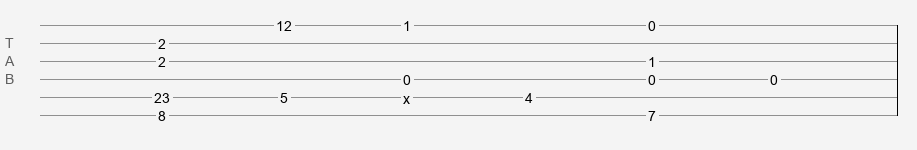0: (403, 72, 411, 82), (648, 72, 656, 82), (648, 18, 656, 28), (770, 72, 778, 82)
1: (403, 18, 411, 28), (648, 54, 656, 64)
12: (276, 18, 292, 28)
2: (158, 36, 166, 46), (158, 54, 166, 64)
23: (154, 90, 170, 100)
4: (525, 90, 533, 100)
5: (280, 90, 288, 100)
7: (648, 108, 656, 118)
8: (158, 108, 166, 118)
x: (403, 91, 410, 99)
